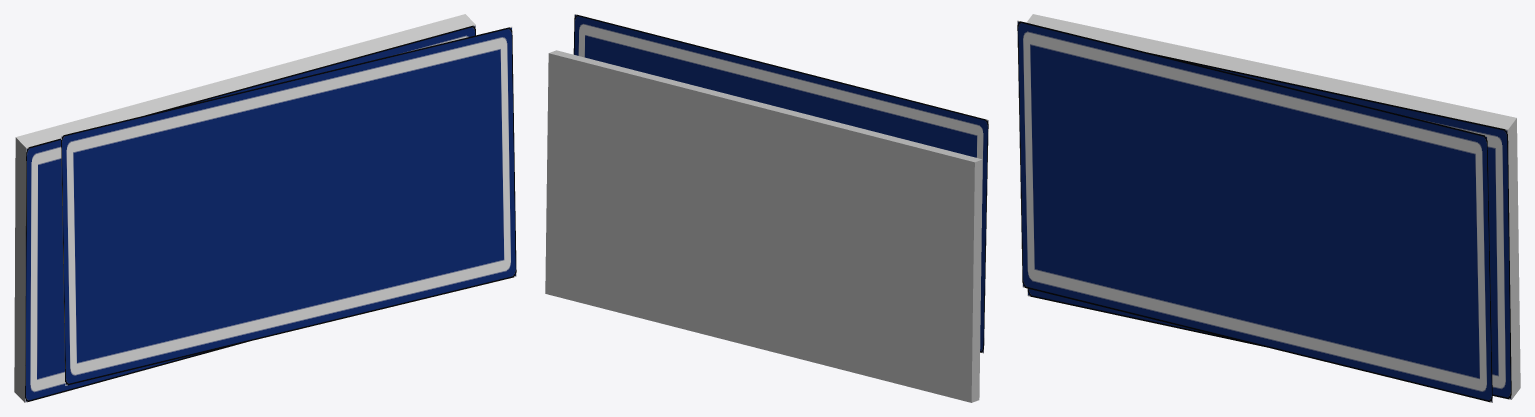
File: s242Sign.obj
The picture shows the model from 3 angles, left to right: view 1: azimuth 30°, elevation 25°; view 2: azimuth 150°, elevation 25°; view 3: azimuth 330°, elevation 25°; orthographic projection. The views are drawn at different scales.
Parts seen in each view (by area): view 1: Plane, Cube.002; view 2: Cube.002, Plane; view 3: Plane, Cube.002.
Boxes of the visible parts, box(x1,y1,x2,y2) form: Plane: box(61, 26, 516, 385); Cube.002: box(14, 14, 475, 402); Cube.002: box(545, 50, 982, 402); Plane: box(573, 14, 988, 353); Plane: box(1017, 20, 1492, 402); Cube.002: box(1027, 14, 1520, 399).
Size of the model in its own units: 16.76 by 9.68 by 2.47.
